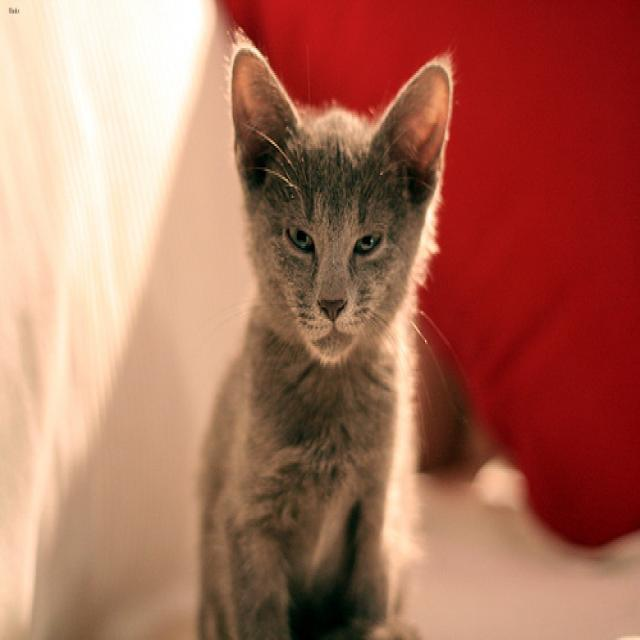Russian_Blue: (224, 35, 462, 371)
